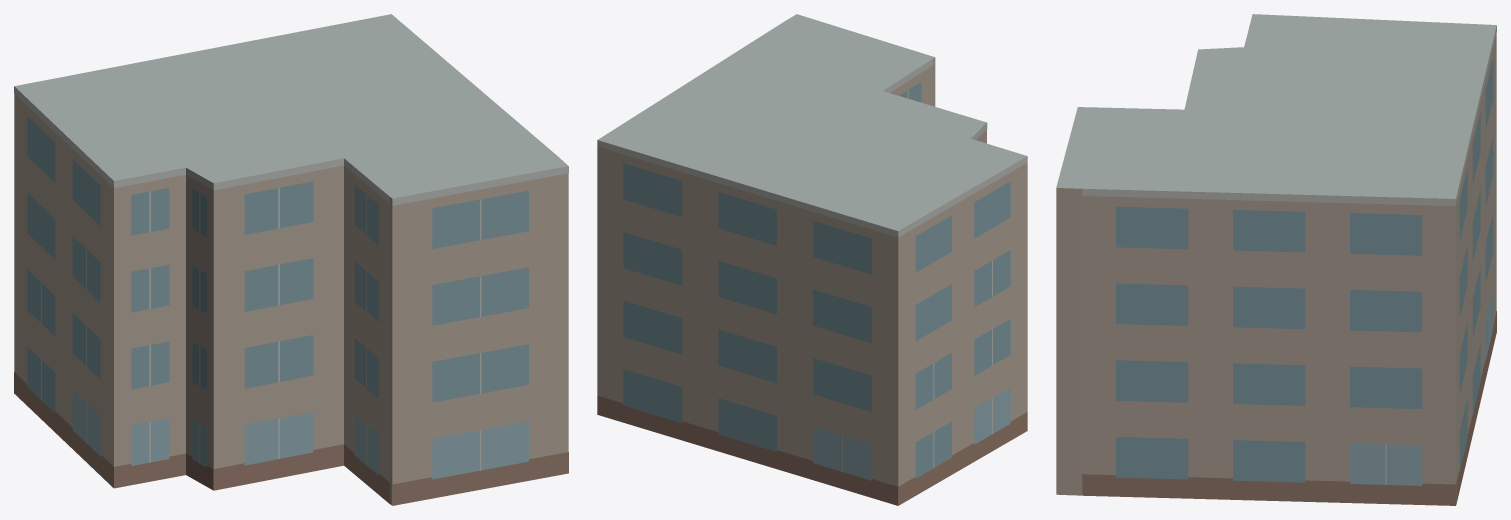
Rendered from survey-upis-32988715.glb.
The picture shows the model from 3 angles, left to right: view 1: azimuth 30°, elevation 25°; view 2: azimuth 150°, elevation 25°; view 3: azimuth 270°, elevation 25°; orthographic projection. The views are drawn at different scales.
Visible parts, largest first — view 1: survey-upis-32988715.tmp; view 2: survey-upis-32988715.tmp; view 3: survey-upis-32988715.tmp.
Part boxes in pixels (<box>): survey-upis-32988715.tmp: <box>14,14,568,505</box>; survey-upis-32988715.tmp: <box>597,14,1027,505</box>; survey-upis-32988715.tmp: <box>1056,14,1496,505</box>.
Bounding box in the file's own units: 13.58 × 10.5 × 13.67.
